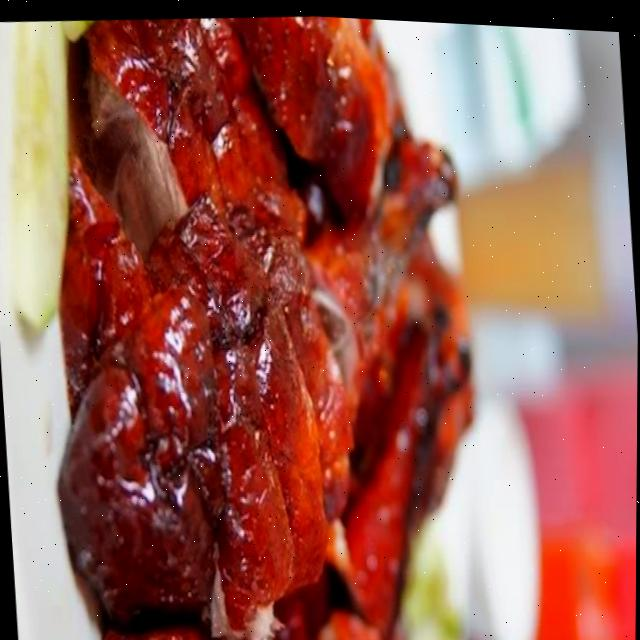烧串烤肉: (29, 1, 531, 640)
